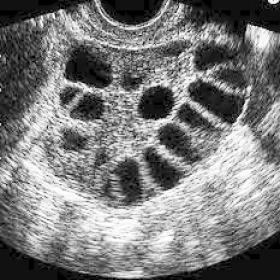PCOS: (192, 76, 242, 120), (67, 44, 114, 87), (139, 150, 181, 188), (179, 102, 212, 138), (169, 125, 197, 166), (118, 164, 145, 204), (195, 42, 236, 67), (76, 89, 108, 121), (140, 91, 172, 119), (120, 64, 144, 94), (60, 130, 87, 152), (160, 40, 191, 56), (55, 86, 84, 100), (94, 154, 105, 170)
